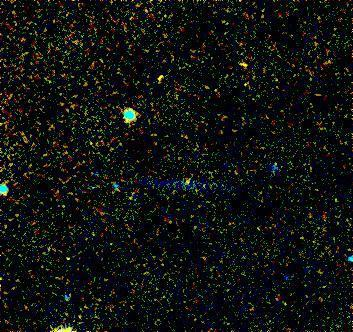star: (174, 169, 204, 199)
